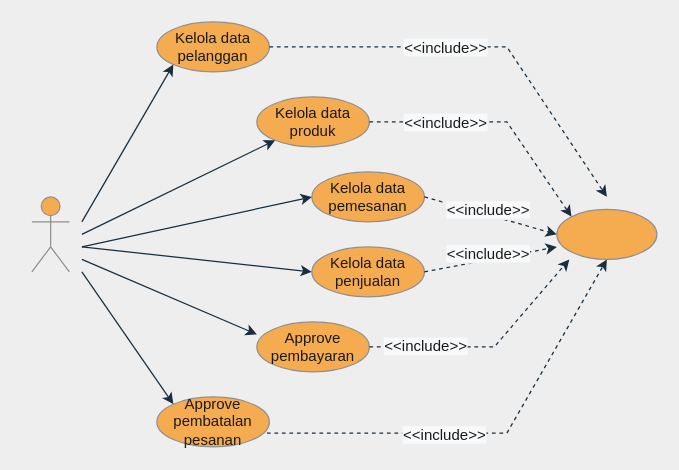
This 679x470 diagram has some shape labels left out. The shapes that lost their labels are listed below. From the top down, each one's centre as x and y in pixels, then its label:
At (50,234): "Pegawai".
At (606,233): "login".
